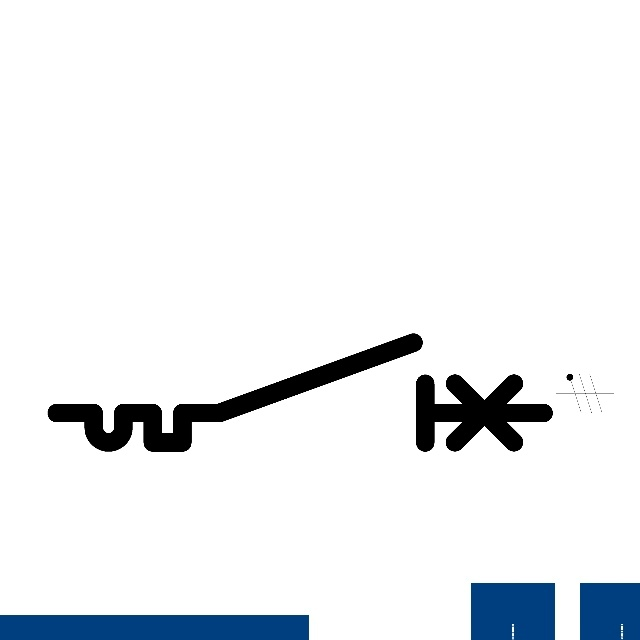interruptor_termomagnetico: (44, 330, 555, 455)
